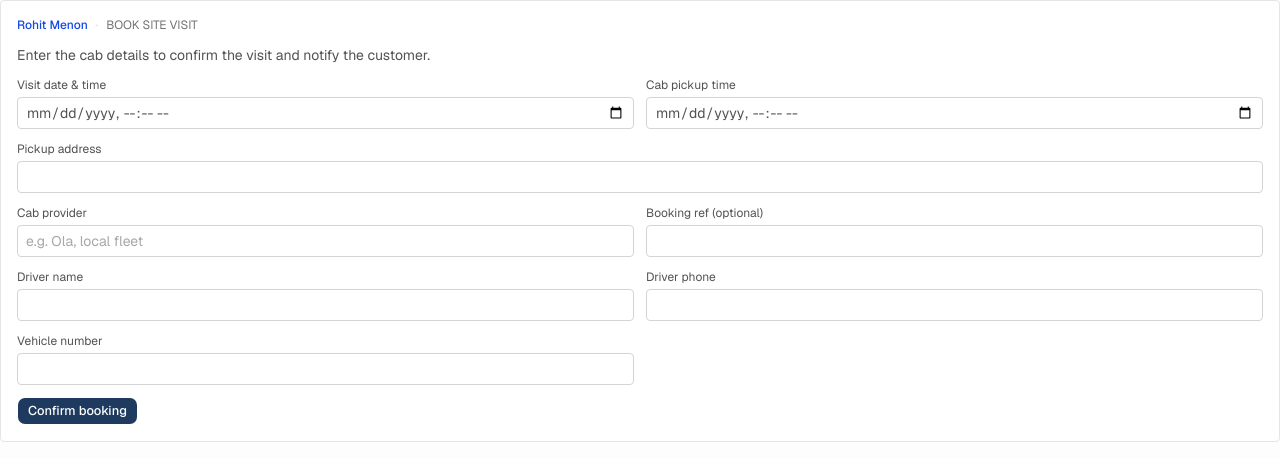
Scenario: <SiteVisitBookingCard> › surfaces a server-side error
Type "2026-05-20T11:30" into the field with test id "site-visit-scheduled-at".
click(326, 113); type("2026-05-20T11:30")  # box [17, 97, 634, 129]
Type "2026-05-20T10:00" into the field with test id "site-visit-pickup-time".
click(954, 113); type("2026-05-20T10:00")  # box [646, 97, 1263, 129]
Type "12 MG Road" into the field with test id "site-visit-pickup-address".
click(640, 177); type("12 MG Road")  # box [17, 161, 1263, 193]
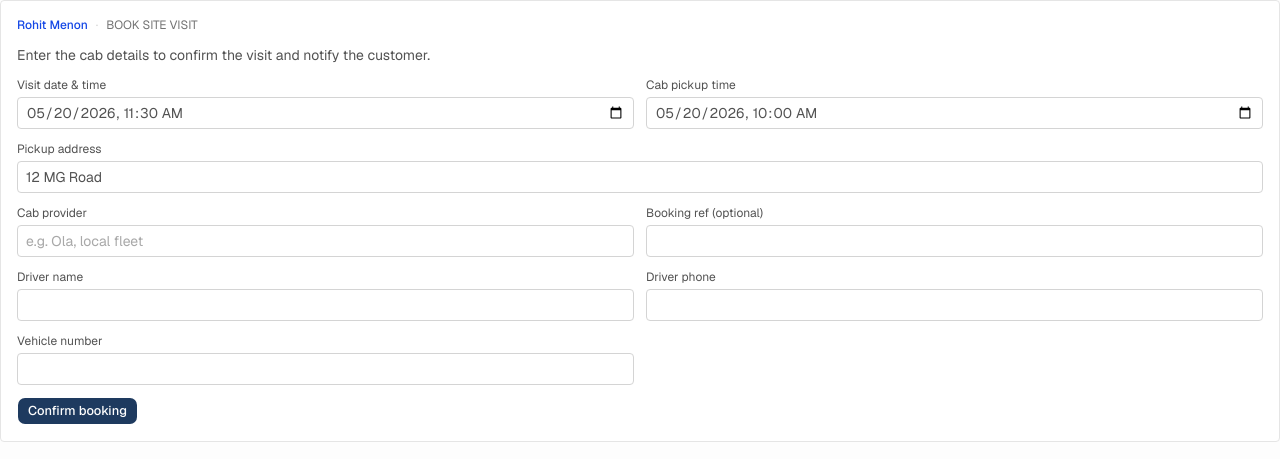
Type "Local fleet" into the field with test id "site-visit-cab-provider".
click(326, 241); type("Local fleet")  # box [17, 225, 634, 257]
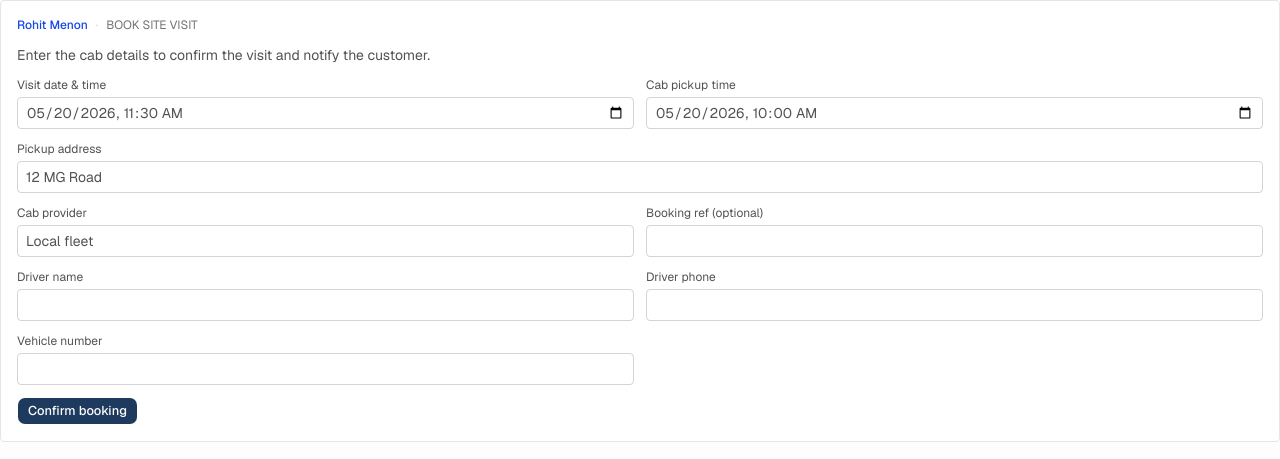
Type "Suresh K" into the field with test id "site-visit-driver-name".
click(326, 305); type("Suresh K")  # box [17, 289, 634, 321]
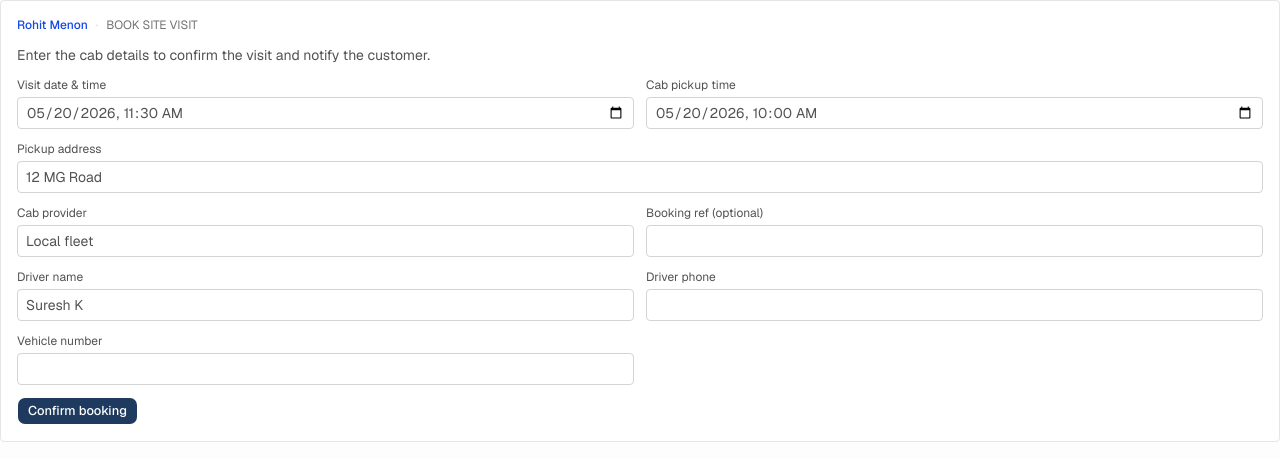
Type "+919900022222" into the field with test id "site-visit-driver-phone".
click(954, 305); type("+919900022222")  # box [646, 289, 1263, 321]
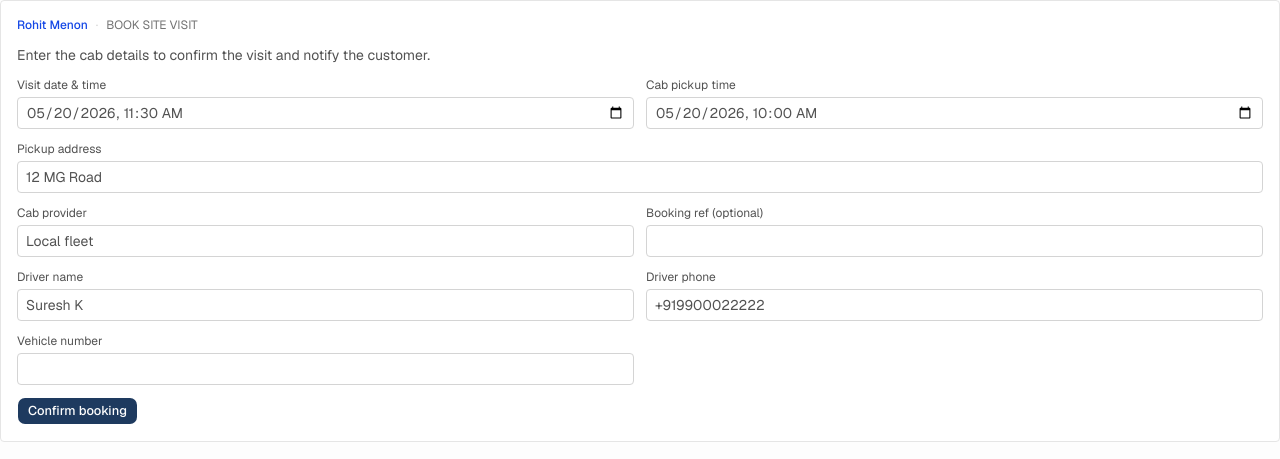
Type "KA01AB1234" into the field with test id "site-visit-vehicle-number".
click(326, 369); type("KA01AB1234")  # box [17, 353, 634, 385]
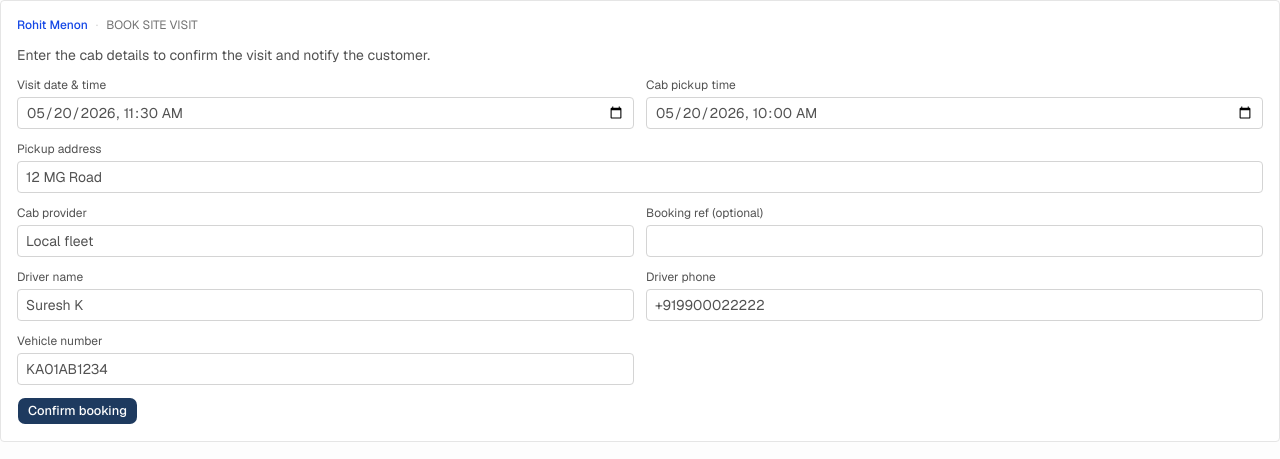
Click the button with test id "site-visit-booking-submit-q-1".
click(77, 411)  # box [17, 397, 138, 425]
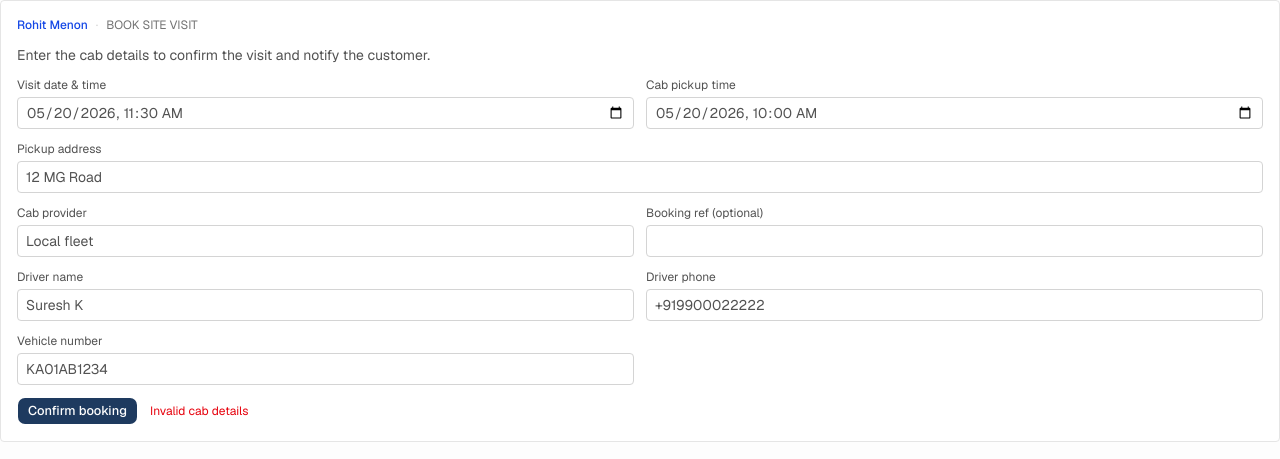
Expected: the message with test id "site-visit-booking-error-q-1" reads "Invalid cab details", [150, 403, 248, 419]
